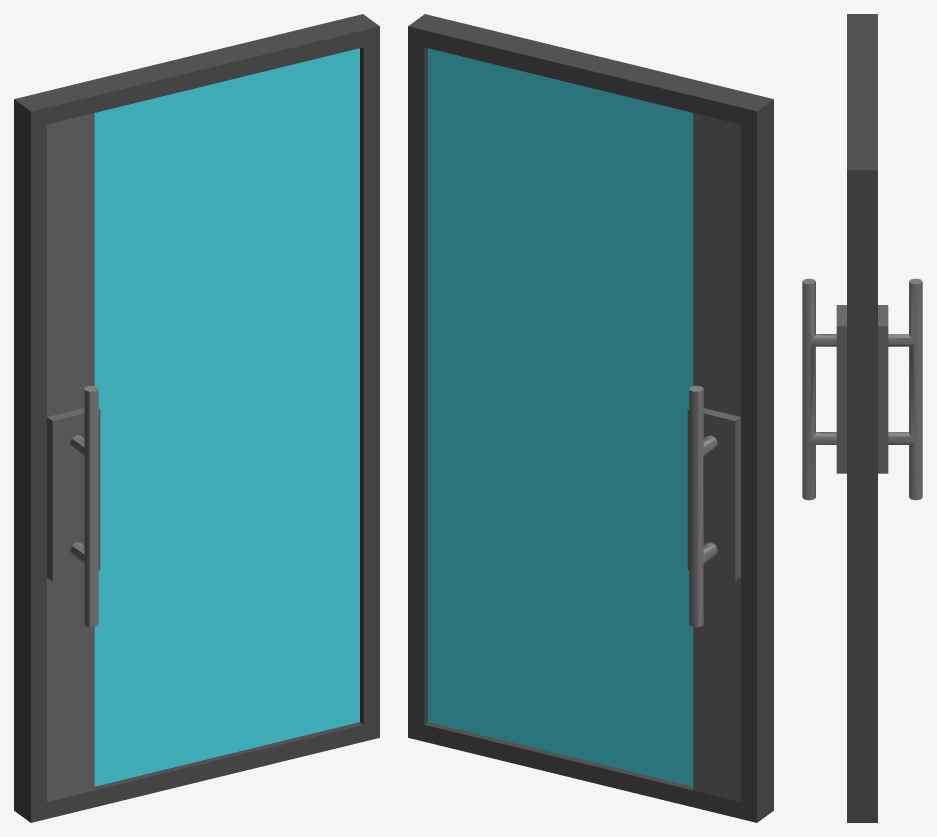
Rendered from SM_Buildings_Hotel_02_Door_R.fbx.
The picture shows the model from 3 angles, left to right: view 1: azimuth 30°, elevation 25°; view 2: azimuth 150°, elevation 25°; view 3: azimuth 270°, elevation 25°; orthographic projection. The views are drawn at different scales.
Parts seen in each view (by area): view 1: SM_Buildings_Hotel_02_Door_R; view 2: SM_Buildings_Hotel_02_Door_R; view 3: SM_Buildings_Hotel_02_Door_R.
Part boxes in pixels (x1,y1,x2,y2): SM_Buildings_Hotel_02_Door_R: (14, 14, 379, 822); SM_Buildings_Hotel_02_Door_R: (408, 14, 773, 822); SM_Buildings_Hotel_02_Door_R: (802, 14, 922, 822).
Bounding box in the file's own units: 1.07 × 2.09 × 0.35.
